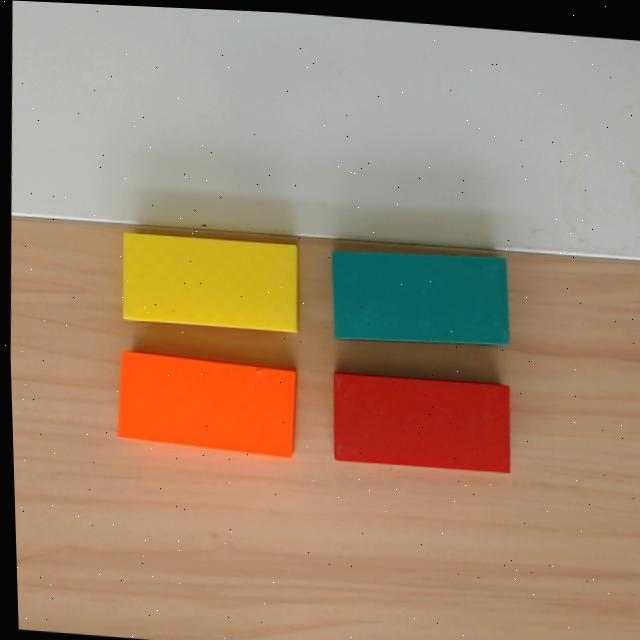Balok-Hijau-1005025: (327, 250, 511, 344)
Balok-Jingga-1005025: (111, 348, 301, 456)
Balok-Kuning-1005025: (116, 231, 303, 332)
Balok-Merah-1005025: (326, 370, 515, 472)
